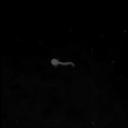fish: (50, 58, 74, 68)
